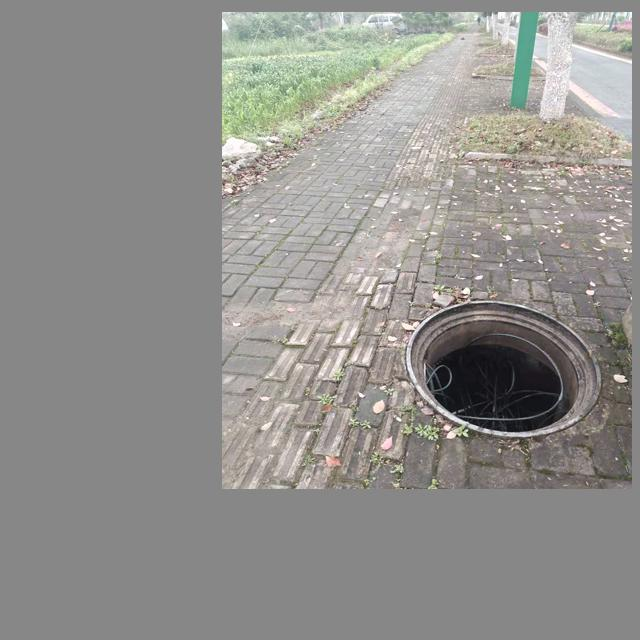lose: (407, 299, 604, 441)
